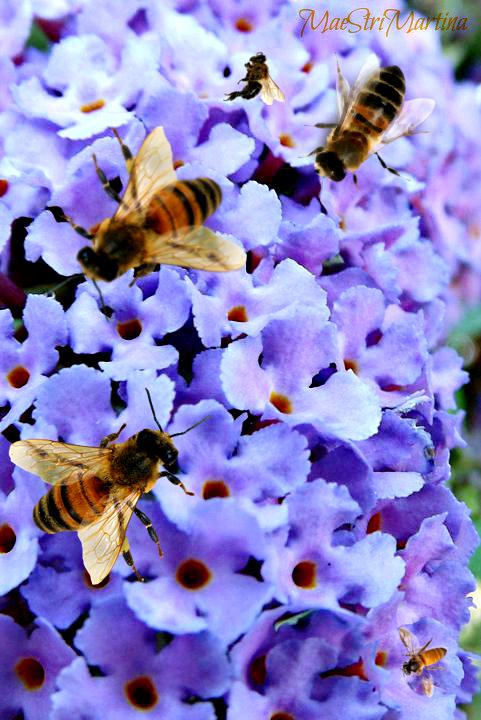Bee: (43, 126, 247, 325), (8, 386, 212, 585), (278, 52, 445, 214), (398, 627, 448, 698), (223, 52, 285, 105)
